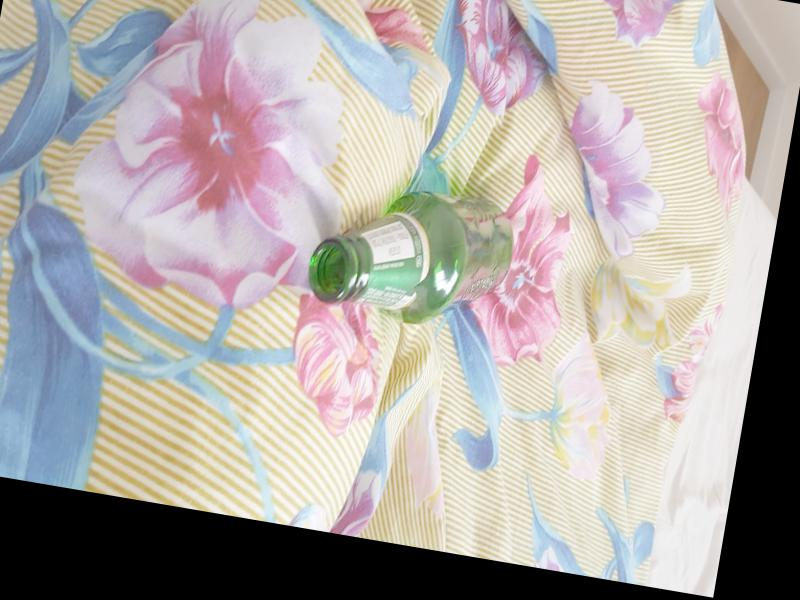Beer: (302, 178, 518, 337)
